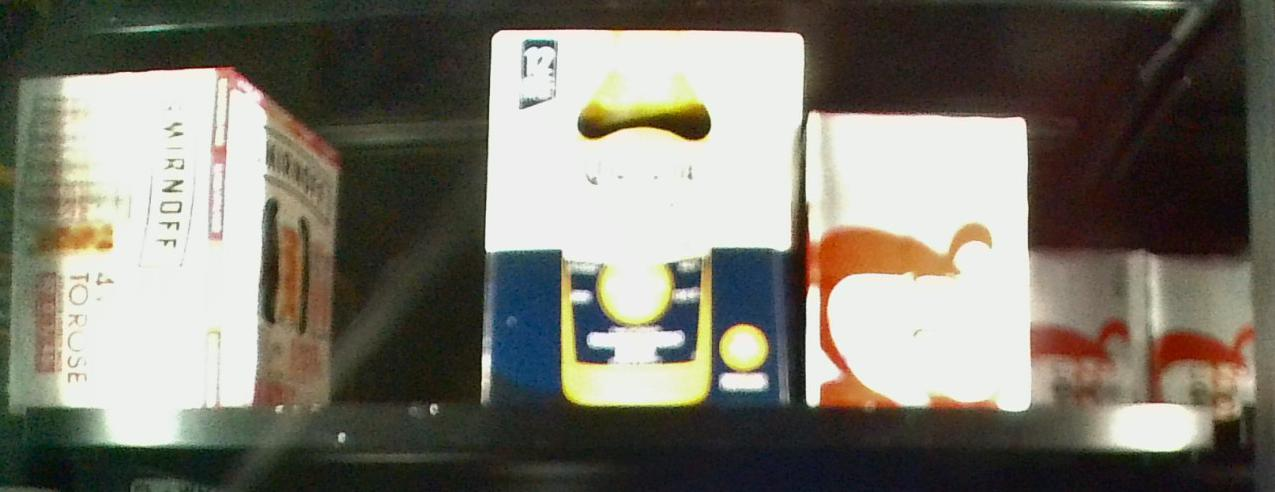bottle: (490, 30, 795, 407), (15, 75, 340, 403), (804, 107, 1035, 417), (1029, 246, 1152, 403)
